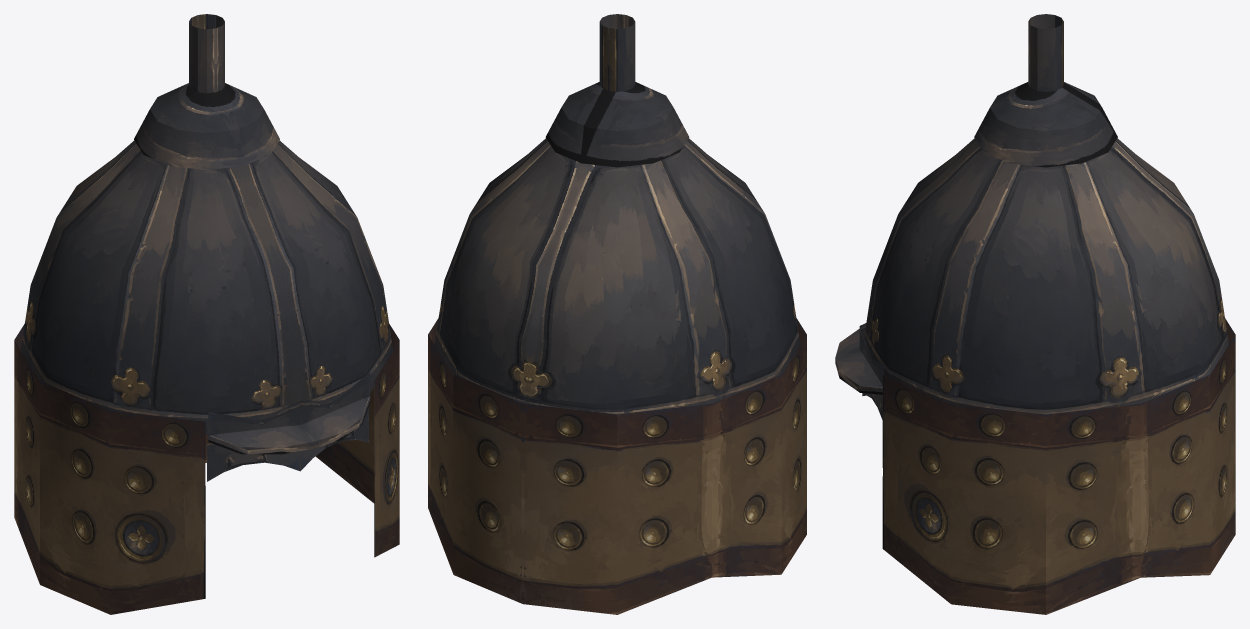
File: helmat.glb
3 renders of one model, left to right at view 1: azimuth 30°, elevation 25°; view 2: azimuth 150°, elevation 25°; view 3: azimuth 270°, elevation 25°, orthographic.
Visible parts, largest first — view 1: Cylinder; view 2: Cylinder; view 3: Cylinder.
Part boxes in pixels (bbox=[...]): Cylinder: bbox=[14, 14, 399, 614]; Cylinder: bbox=[428, 14, 806, 614]; Cylinder: bbox=[835, 14, 1235, 614].
Size of the model in its own units: 0.8169 by 1.22 by 0.8625.
1 material, 1 textured.
